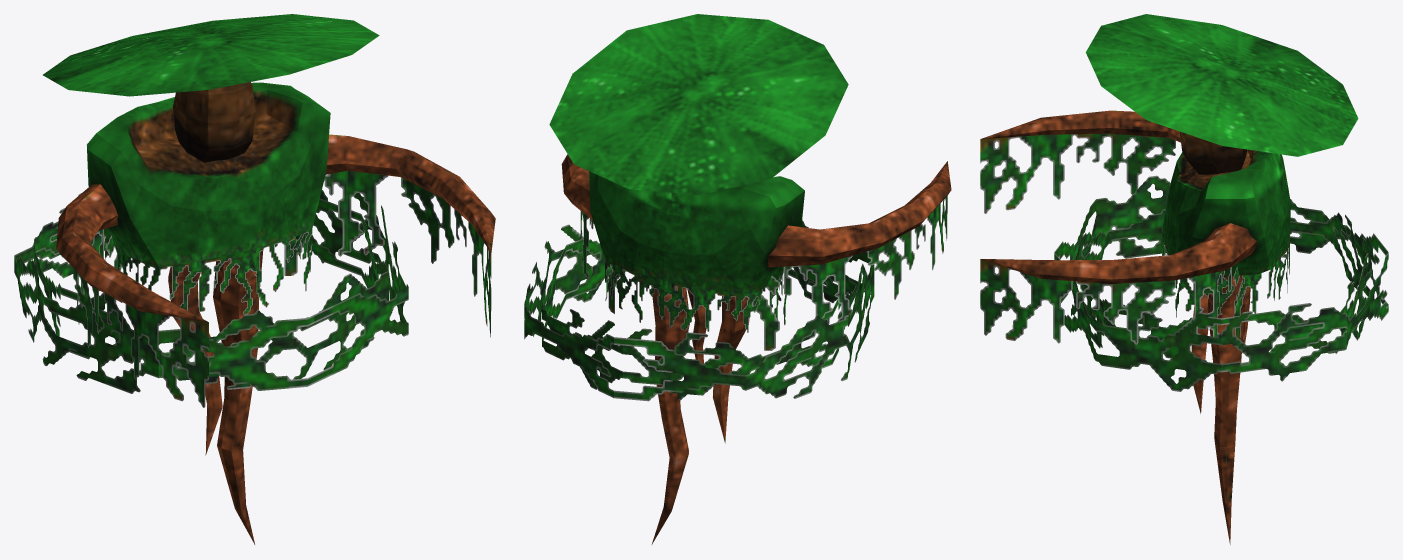
The model's file is spriggan.obj.
The picture shows the model from 3 angles, left to right: view 1: azimuth 30°, elevation 25°; view 2: azimuth 150°, elevation 25°; view 3: azimuth 270°, elevation 25°; orthographic projection. The views are drawn at different scales.
Parts seen in each view (by area): view 1: Body, Head, EffectOuter, ArmLeft, ArmRight, EffectInner; view 2: Head, Body, EffectOuter, ArmRight, EffectInner, ArmLeft; view 3: Head, Body, EffectOuter, ArmLeft, ArmRight, EffectInner.
Boxes of the visible parts, x1,y1,x2,y2 form: Body: (87,82,330,544); Head: (43,14,379,162); EffectOuter: (14,190,408,393); ArmLeft: (284,134,495,337); ArmRight: (56,184,208,407); EffectInner: (34,198,388,389); Head: (549,14,848,195); Body: (589,171,804,544); EffectOuter: (524,220,874,401); ArmRight: (752,161,951,350); EffectInner: (542,238,856,400); ArmLeft: (561,154,620,313); Head: (1085,14,1358,174); Body: (1162,149,1290,544); EffectOuter: (1054,175,1388,391); ArmLeft: (980,223,1257,344); ArmRight: (980,110,1180,213); EffectInner: (1071,209,1371,372).
Size of the model in its own units: 1.51 by 2.06 by 1.61.
